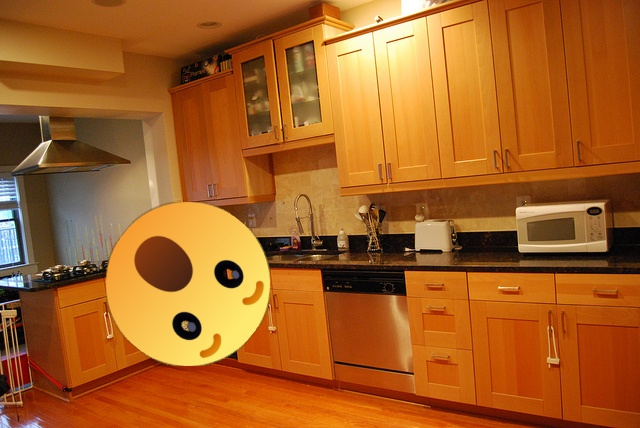wow: (106, 202, 270, 366)
